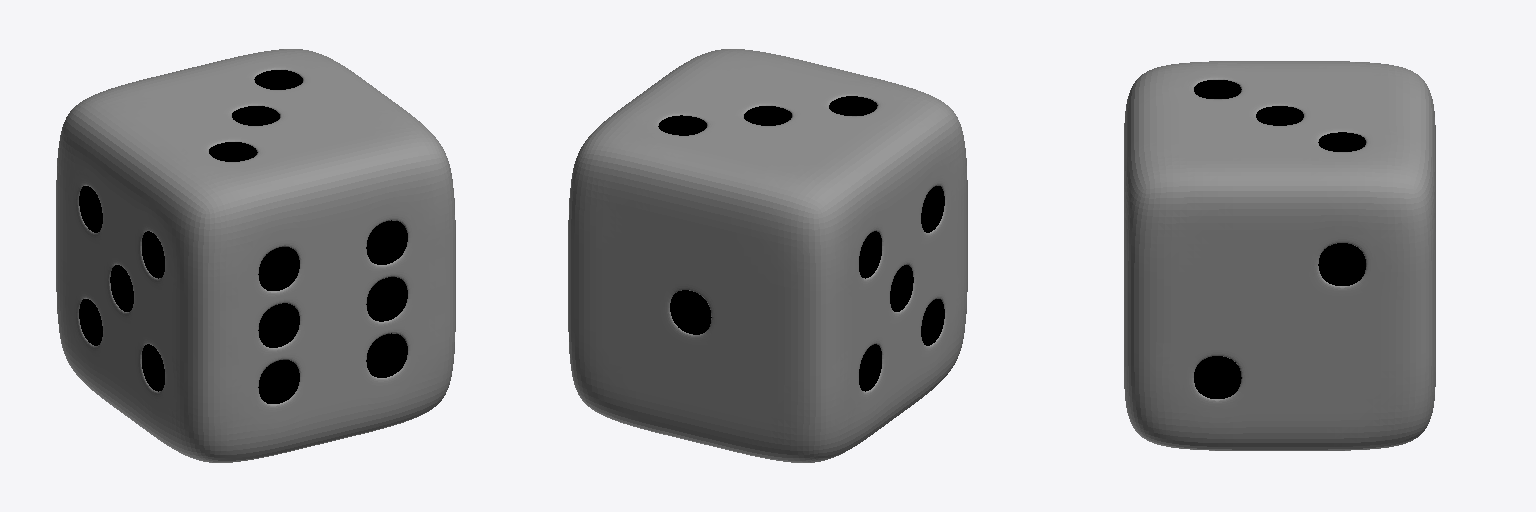
File: dice0.obj
3 views of the same model, side by side, from view 1: azimuth 30°, elevation 25°; view 2: azimuth 150°, elevation 25°; view 3: azimuth 270°, elevation 25° (orthographic).
Parts seen in each view (by area): view 1: Dice002; view 2: Dice002; view 3: Dice002.
Boxes of the visible parts, box(x1,y1,x2,y2) form: Dice002: box(56, 49, 455, 462); Dice002: box(568, 49, 967, 462); Dice002: box(1124, 61, 1435, 450).
Bounding box in the file's own units: 100 × 100 × 100.